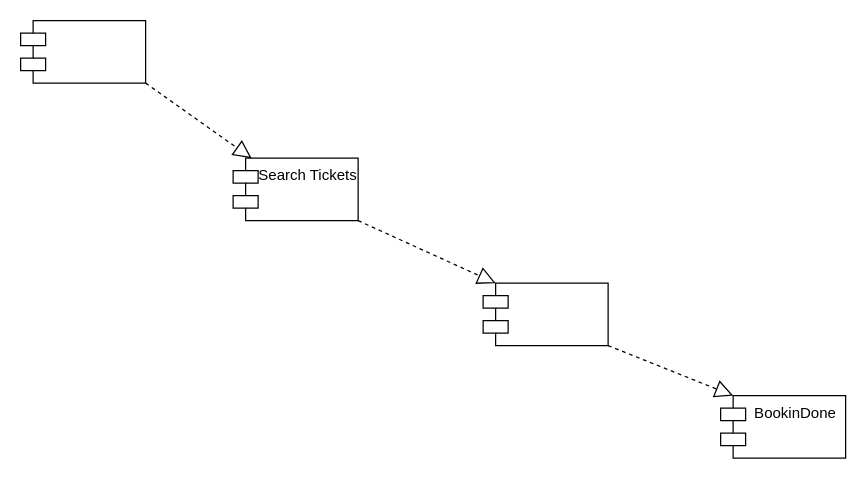
Some shapes in this 866 by 479 pixel diagram are drawn without their labels. The box of each missing label's shape, as (x1, y1, x2, y2) in pixels:
Loging Page: (19, 19, 146, 83)
Paymet For Ticket: (482, 282, 608, 346)
